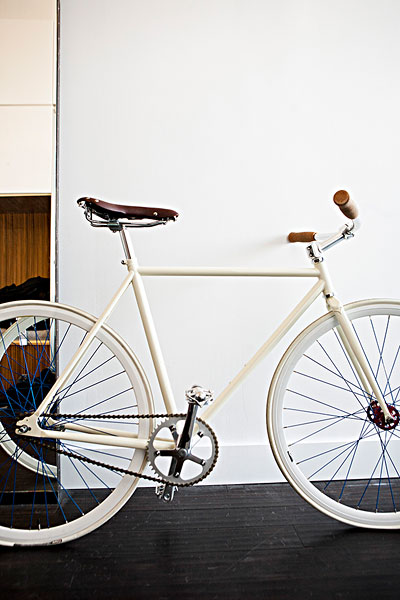MNV: (3, 192, 400, 550)
